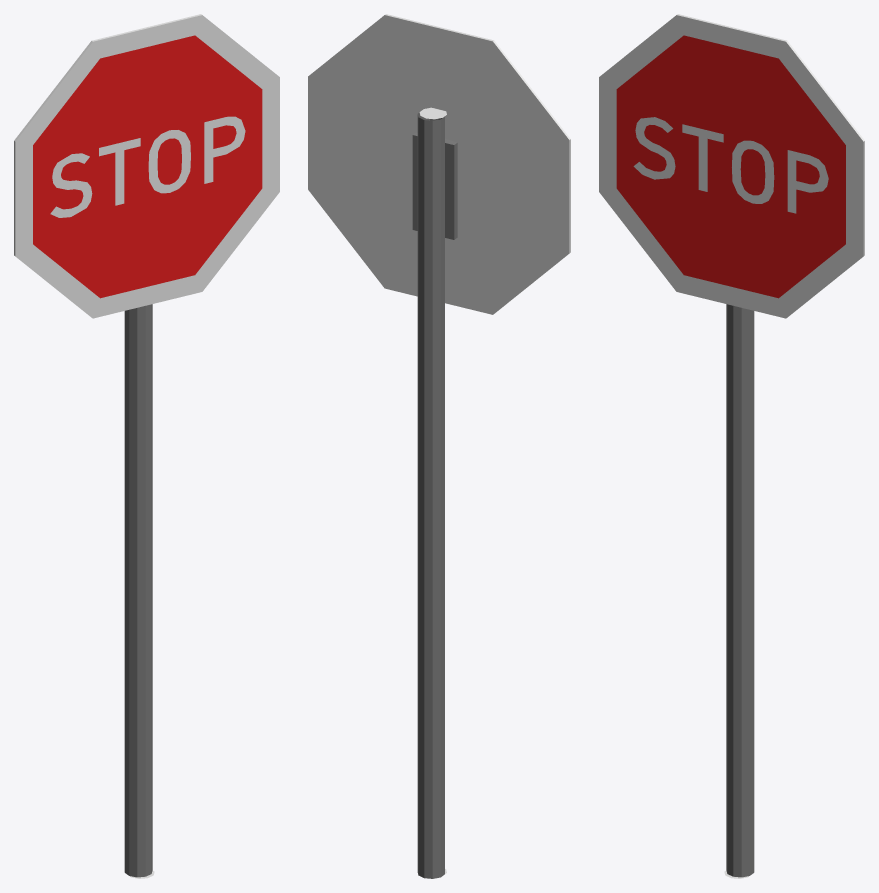
The picture shows the model from 3 angles, left to right: view 1: azimuth 30°, elevation 25°; view 2: azimuth 150°, elevation 25°; view 3: azimuth 330°, elevation 25°; orthographic projection.
Visible parts, largest first — view 1: Stop_0; view 2: Stop_0; view 3: Stop_0.
Boxes of the visible parts, x1,y1,x2,y2 form: Stop_0: (14, 14, 279, 878); Stop_0: (308, 14, 570, 878); Stop_0: (599, 14, 864, 878).
Bounding box in the file's own units: 0.5266 × 1.62 × 0.0561.
1 material, 1 textured.
